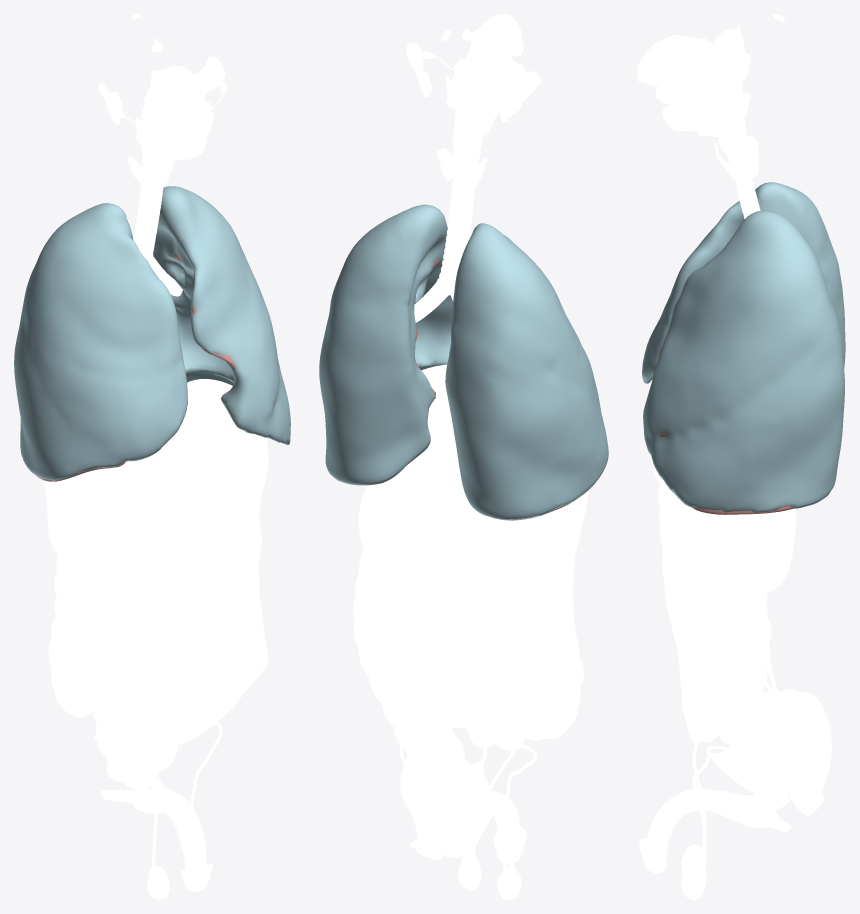
The model's file is Visceral.glb.
The picture shows the model from 3 angles, left to right: view 1: azimuth 30°, elevation 25°; view 2: azimuth 150°, elevation 25°; view 3: azimuth 270°, elevation 25°; orthographic projection. The views are drawn at different scales.
Visible parts, largest first — view 1: Pleura, Greater omentum, Liver, Ascending colon, Corpus cavernosum of penis, Stomach, Gingiva, Mucosa of nasal cavity, Urinary bladder, Trachea, Mucosa of stomach, Parotid gland.l (+4 smaller); view 2: Pleura, Jejunum, Ascending colon, Descending colon, Sigmoid colon, Liver, Kidney.l, Kidney.r, Trachea, Stomach, Oropharynx, Corpus cavernosum of penis (+20 smaller); view 3: Pleura, Greater omentum, Descending colon, Sigmoid colon, Corpus cavernosum of penis, Mucosa of nasal cavity, Kidney.l, Urinary bladder, Gingiva, Mesocolic taenia, Nasopharynx, Stomach (+13 smaller).
Part boxes in pixels (bbox=[...]): Pleura: bbox=[14, 186, 290, 480]; Greater omentum: bbox=[65, 493, 268, 747]; Liver: bbox=[44, 379, 260, 556]; Ascending colon: bbox=[48, 554, 97, 717]; Corpus cavernosum of penis: bbox=[101, 777, 206, 869]; Stomach: bbox=[170, 436, 268, 533]; Gingiva: bbox=[135, 101, 211, 159]; Mucosa of nasal cavity: bbox=[159, 65, 210, 128]; Urinary bladder: bbox=[102, 731, 177, 775]; Trachea: bbox=[133, 184, 163, 260]; Mucosa of stomach: bbox=[227, 461, 263, 509]; Parotid gland.l: bbox=[191, 56, 225, 96]; Pleura: bbox=[319, 204, 608, 520]; Jejunum: bbox=[391, 527, 542, 750]; Ascending colon: bbox=[518, 564, 583, 738]; Descending colon: bbox=[354, 548, 464, 775]; Sigmoid colon: bbox=[400, 727, 464, 859]; Liver: bbox=[421, 364, 588, 573]; Kidney.l: bbox=[358, 482, 418, 574]; Kidney.r: bbox=[486, 522, 535, 616]; Trachea: bbox=[436, 177, 475, 295]; Stomach: bbox=[407, 413, 462, 483]; Oropharynx: bbox=[451, 71, 520, 129]; Corpus cavernosum of penis: bbox=[409, 790, 520, 862]; Pleura: bbox=[642, 182, 845, 513]; Greater omentum: bbox=[659, 511, 728, 743]; Descending colon: bbox=[715, 530, 796, 755]; Sigmoid colon: bbox=[788, 691, 831, 815]; Corpus cavernosum of penis: bbox=[646, 789, 791, 854]; Mucosa of nasal cavity: bbox=[637, 35, 706, 86]; Kidney.l: bbox=[755, 508, 795, 593]; Urinary bladder: bbox=[710, 748, 798, 794]; Gingiva: bbox=[655, 82, 718, 131]; Mesocolic taenia: bbox=[720, 536, 795, 739]; Nasopharynx: bbox=[705, 39, 743, 89]; Stomach: bbox=[658, 482, 740, 537].
Size of the model in its own units: 0.2634 by 0.8931 by 0.1926.
